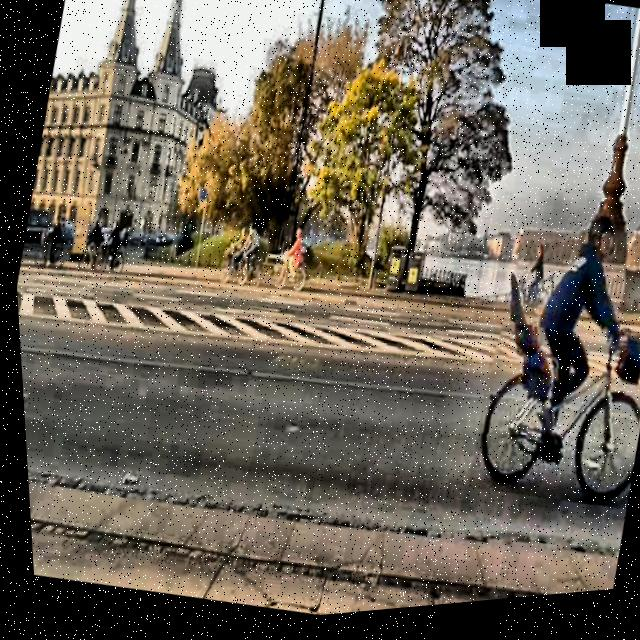bicycle: (454, 318, 640, 531)
